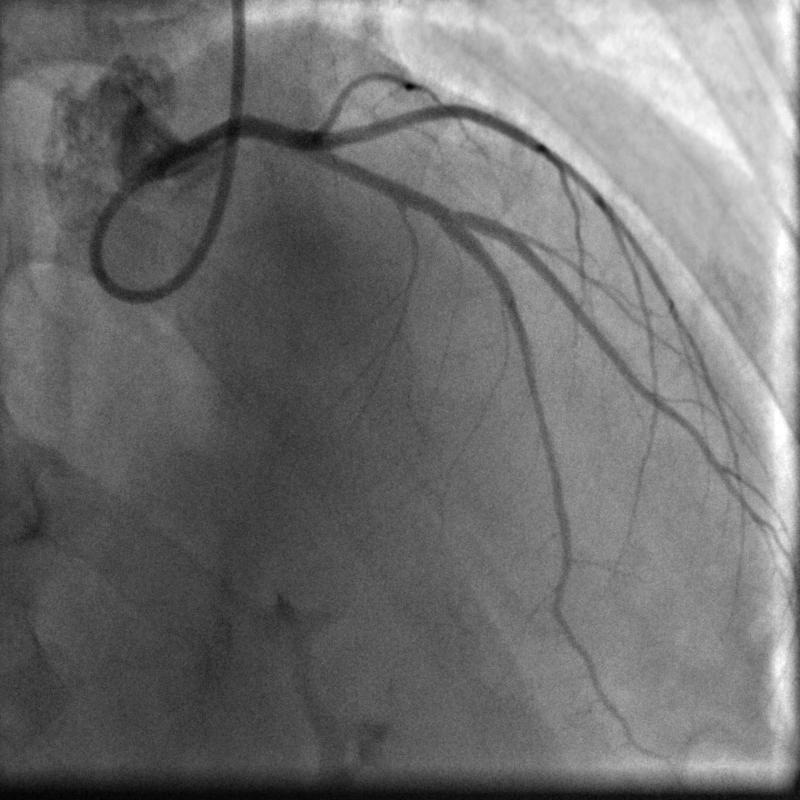Stenosis: (428, 193, 455, 230)
